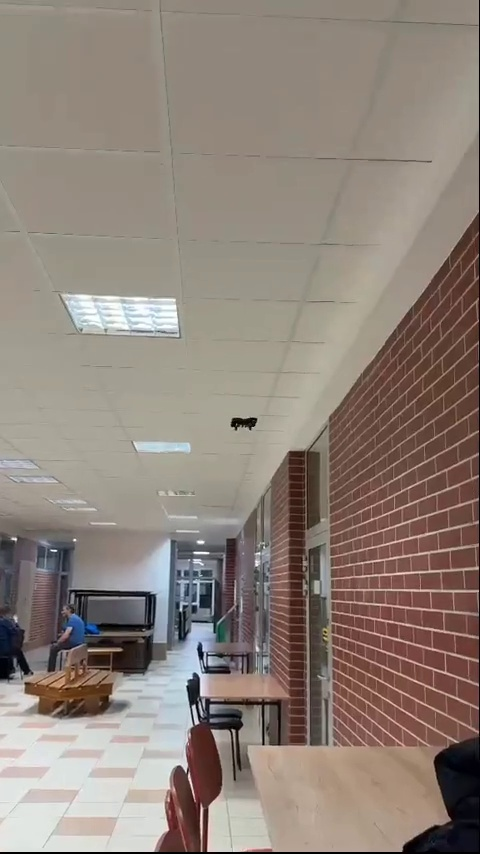drone: (233, 414, 260, 431)
no vest: (0, 609, 37, 679), (51, 601, 87, 668)
